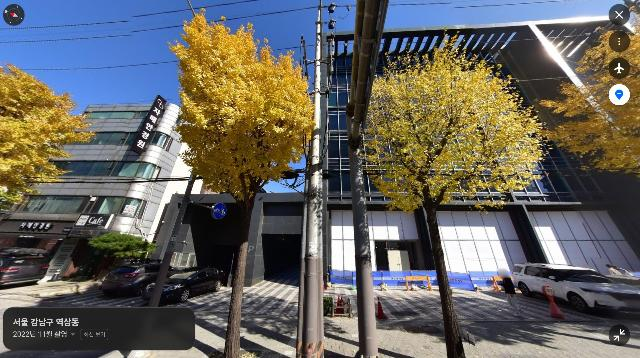ginkgo: (366, 28, 547, 358), (167, 8, 315, 358), (534, 0, 640, 178), (0, 60, 96, 214)
